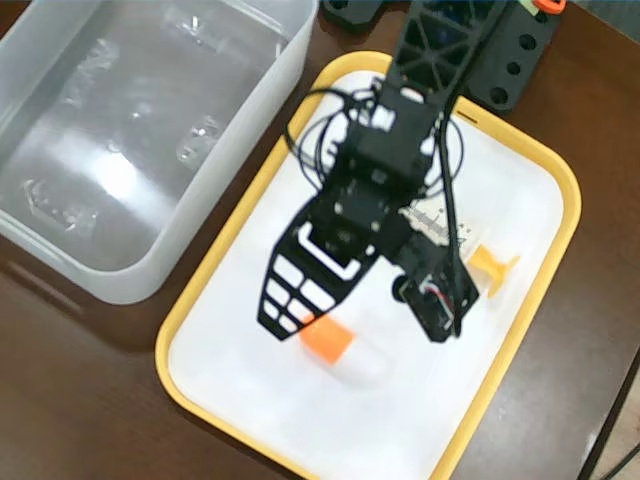pill: (299, 313, 390, 388)
